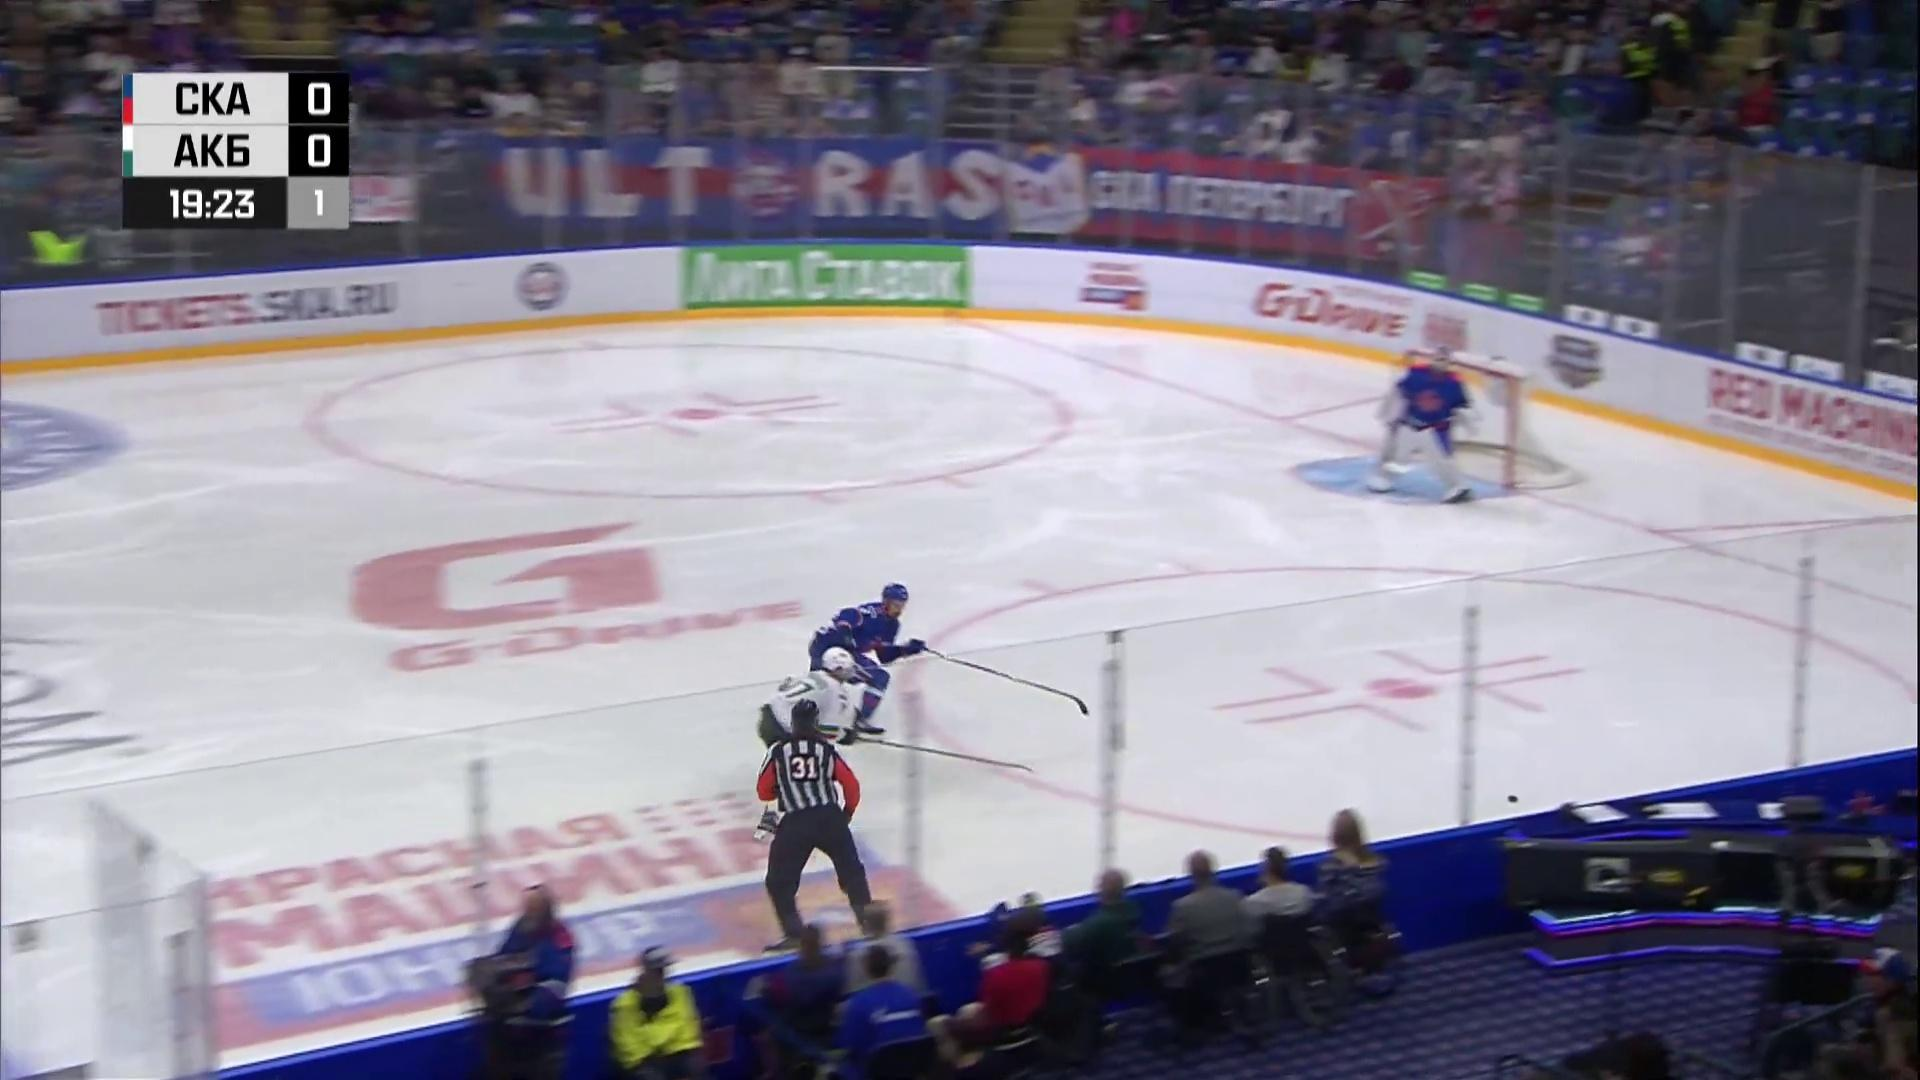ball: (1507, 795, 1518, 803)
